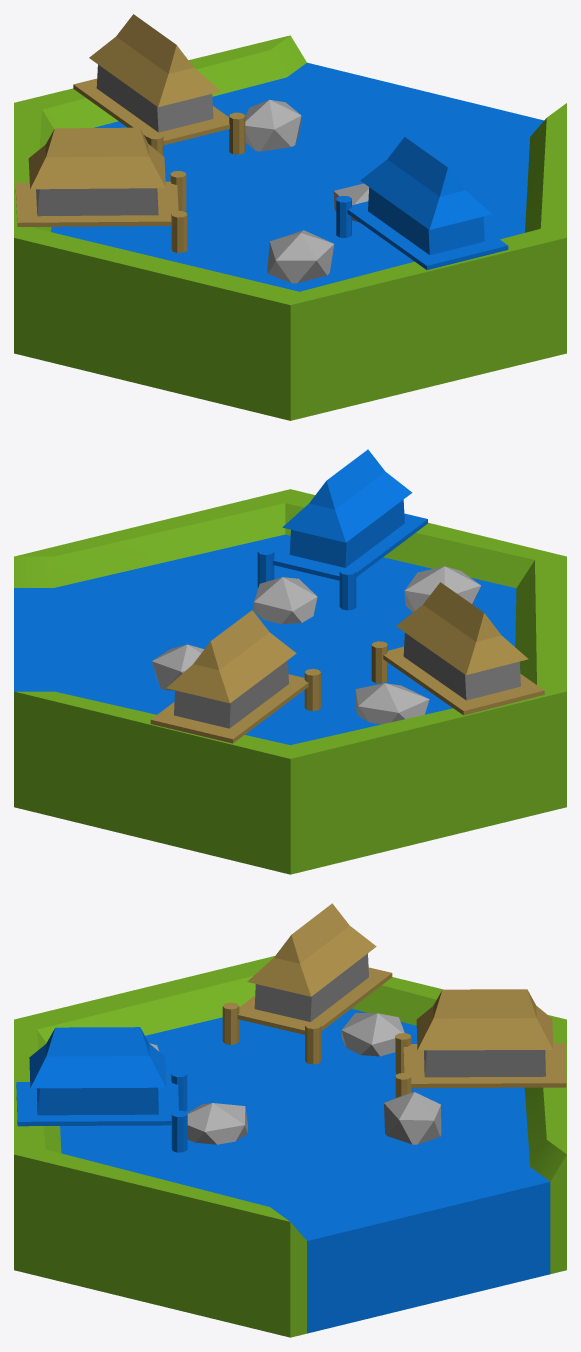
Rendered from Casas_Lago_3.fbx.
The picture shows the model from 3 angles, top to bottom: view 1: azimuth 30°, elevation 25°; view 2: azimuth 150°, elevation 25°; view 3: azimuth 270°, elevation 25°; orthographic projection.
Visible parts, largest first — view 1: Casas_Lago_3; view 2: Casas_Lago_3; view 3: Casas_Lago_3.
Part boxes in pixels (x1,y1,x2,y2): Casas_Lago_3: [14, 14, 566, 420]; Casas_Lago_3: [14, 449, 566, 874]; Casas_Lago_3: [14, 903, 566, 1337].
Size of the model in its own units: 200 by 67.29 by 173.
